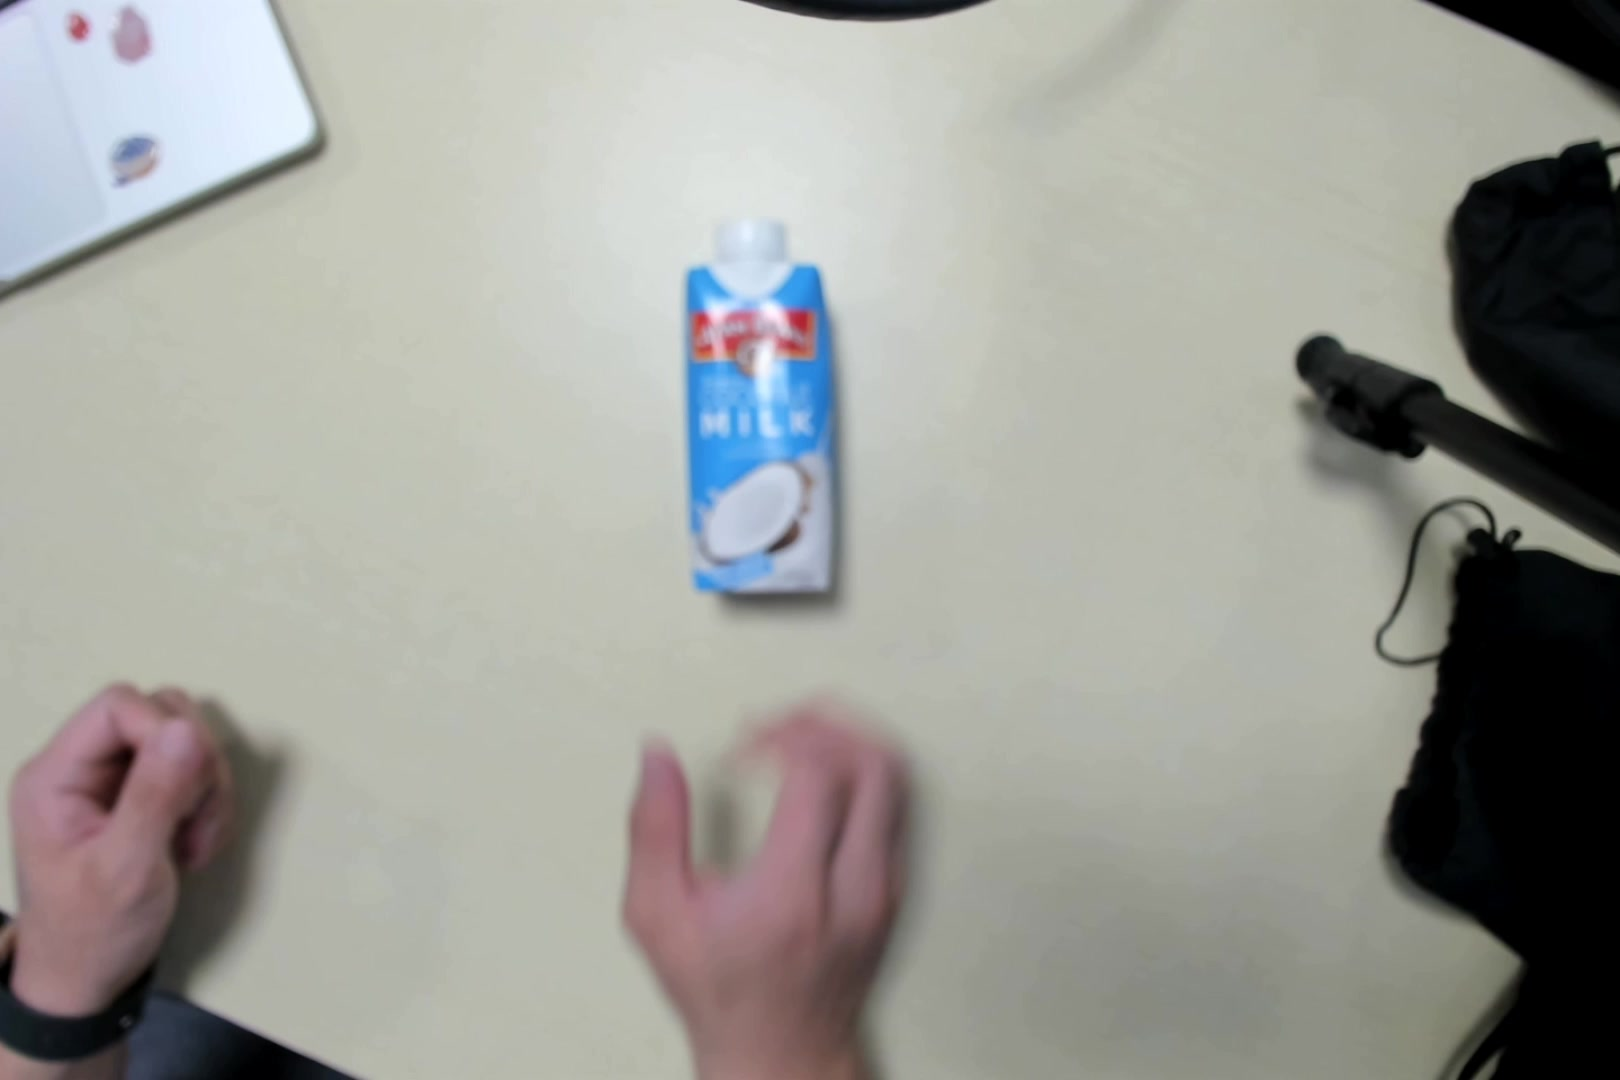CookingCreamMilk_300-399g_Halal_NonHealthy: (676, 204, 847, 603)
